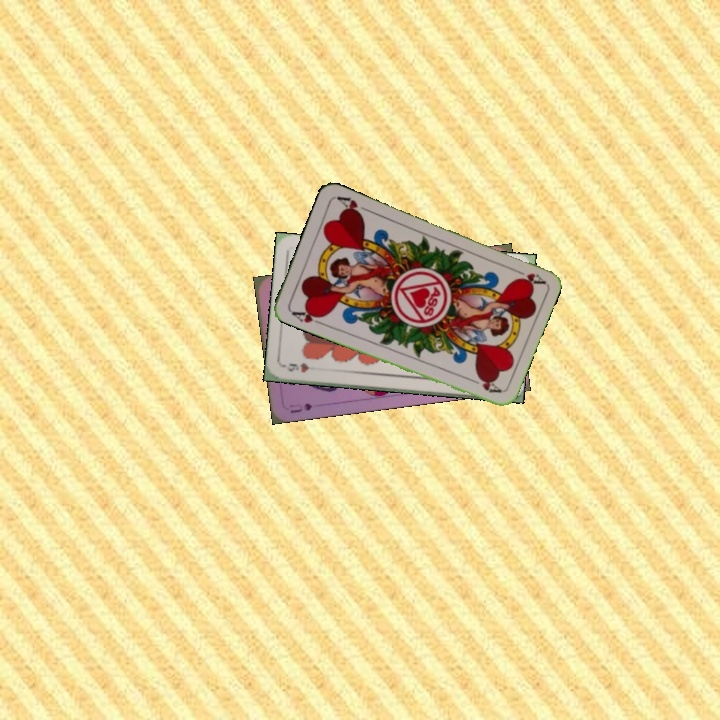H9: (280, 359, 312, 375)
HA: (287, 305, 328, 327), (507, 264, 546, 287)
SU: (286, 399, 315, 416)
